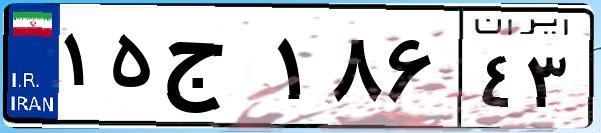1: (270, 28, 330, 110), (57, 26, 110, 100)
3: (525, 38, 570, 115)
4: (475, 38, 525, 113)
5: (110, 28, 158, 98)
6: (385, 28, 445, 110)
8: (330, 28, 385, 110)
ج: (158, 20, 270, 120)
